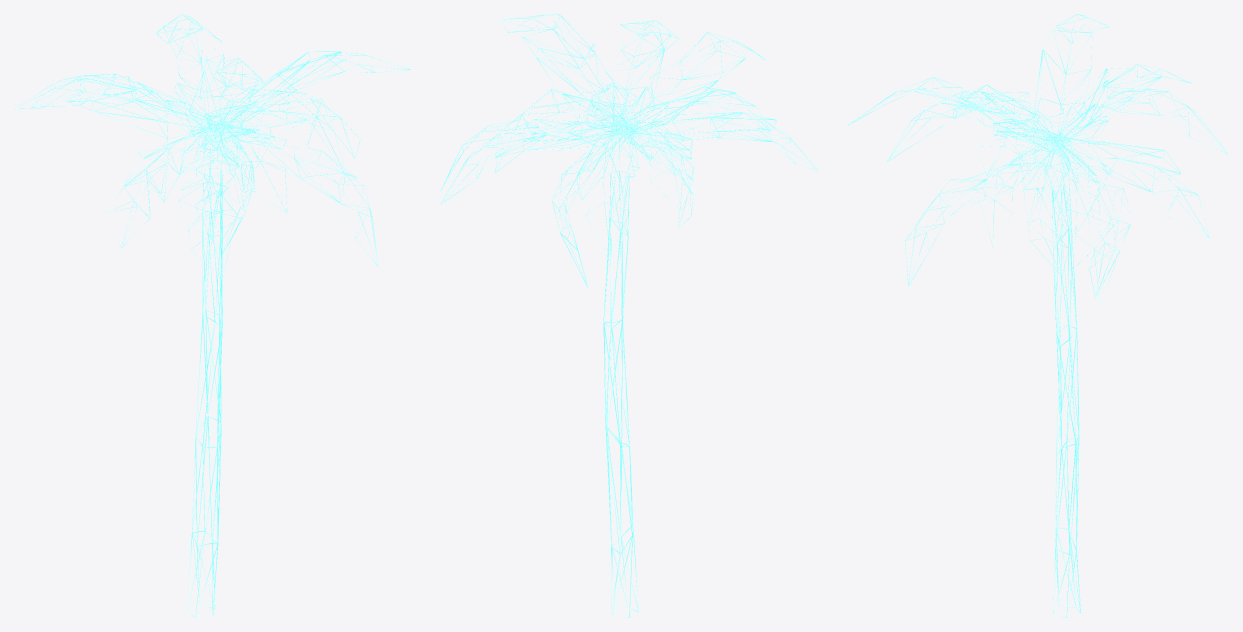
File: wireframePalmTree.glb
The picture shows the model from 3 angles, left to right: view 1: azimuth 30°, elevation 25°; view 2: azimuth 150°, elevation 25°; view 3: azimuth 270°, elevation 25°; orthographic projection. The views are drawn at different scales.
Visible parts, largest first — view 1: SM_Prop_Tree_Palm_02.002; view 2: SM_Prop_Tree_Palm_02.002; view 3: SM_Prop_Tree_Palm_02.002.
Part boxes in pixels (bbox=[...]): SM_Prop_Tree_Palm_02.002: bbox=[14, 14, 411, 617]; SM_Prop_Tree_Palm_02.002: bbox=[440, 14, 818, 617]; SM_Prop_Tree_Palm_02.002: bbox=[848, 14, 1228, 617].
Size of the model in its own units: 2.94 by 4.76 by 3.03.
